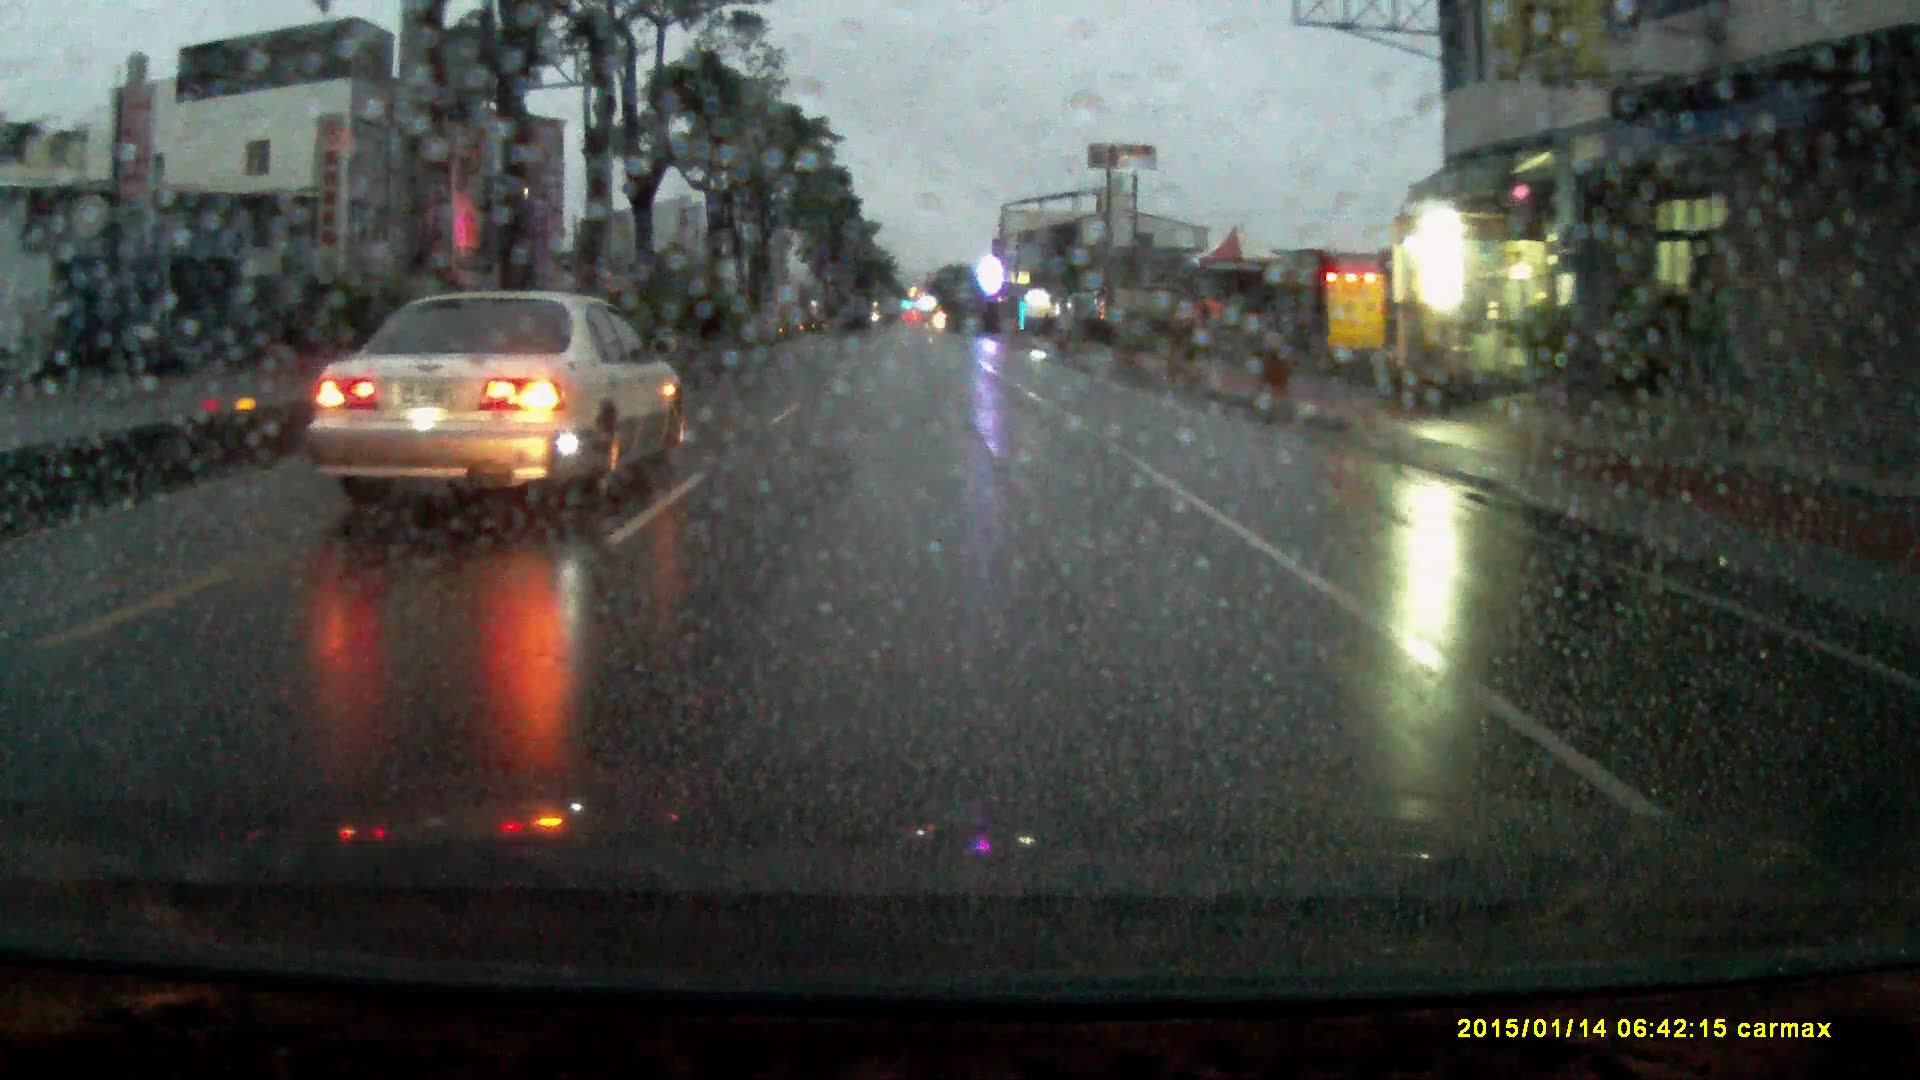vehicle: (299, 289, 687, 516)
